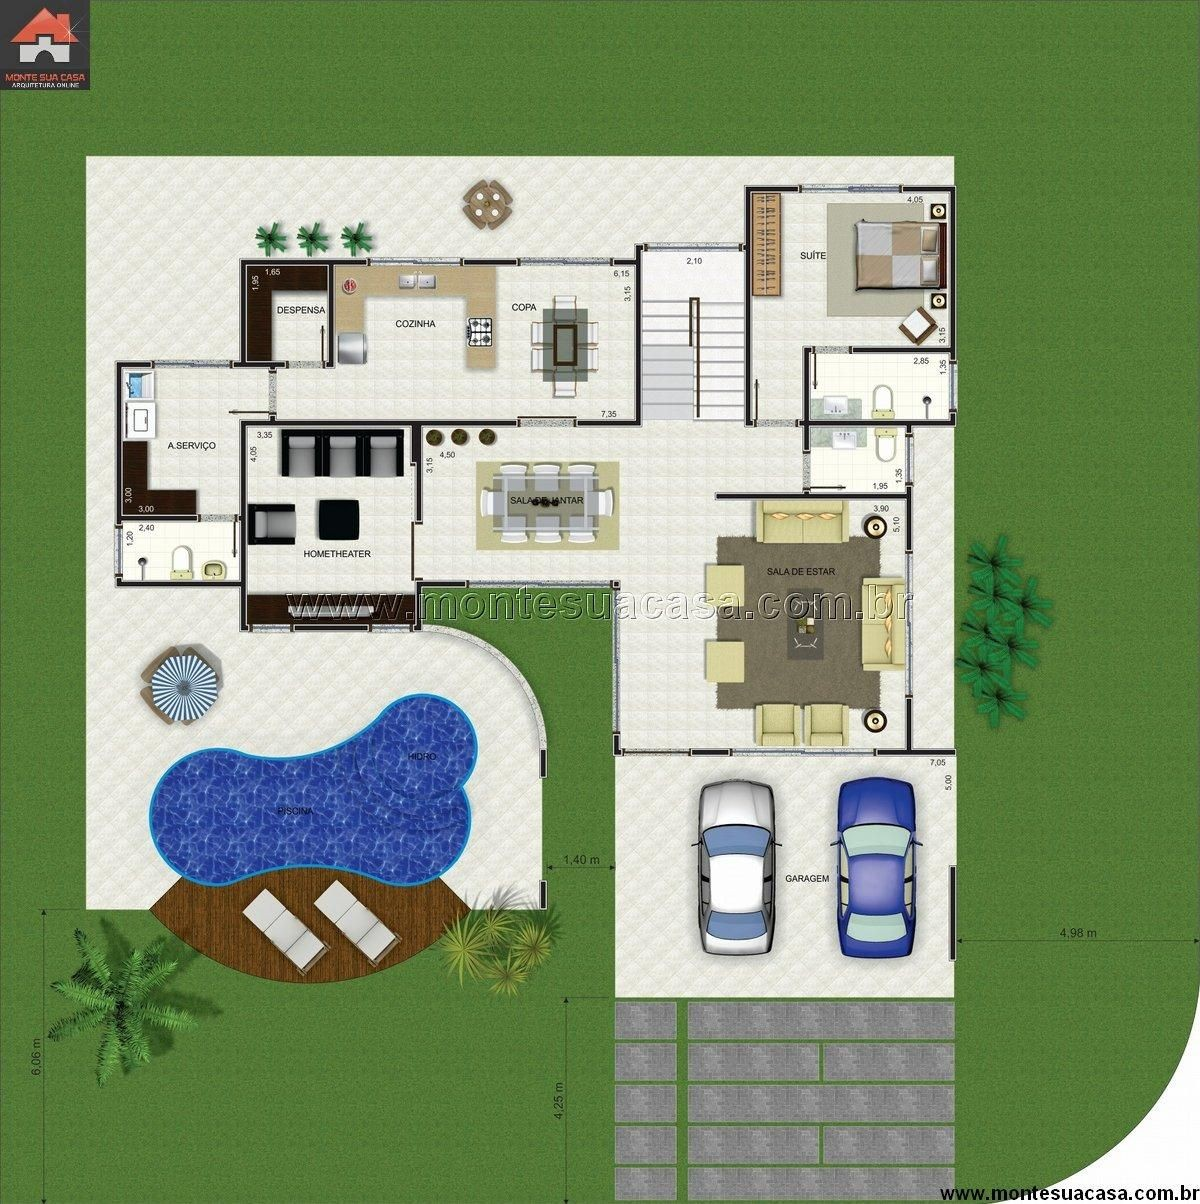wall: (242, 421, 515, 425), (745, 185, 749, 423), (949, 188, 955, 363), (241, 423, 245, 623), (116, 361, 121, 522), (801, 420, 952, 424), (636, 245, 640, 425), (329, 261, 334, 367), (951, 866, 956, 960), (241, 260, 245, 366), (804, 347, 809, 450), (416, 423, 421, 521), (716, 494, 910, 497), (116, 582, 243, 586), (242, 260, 367, 264), (295, 625, 368, 631), (852, 347, 952, 350), (412, 422, 421, 459), (879, 749, 953, 754), (578, 421, 637, 425), (118, 515, 195, 519), (907, 699, 911, 754), (233, 363, 285, 367), (746, 187, 798, 191), (903, 186, 952, 190), (416, 582, 421, 628), (908, 489, 911, 550), (693, 748, 727, 754), (464, 260, 516, 264), (418, 582, 465, 586), (118, 363, 149, 366), (614, 735, 619, 752)
